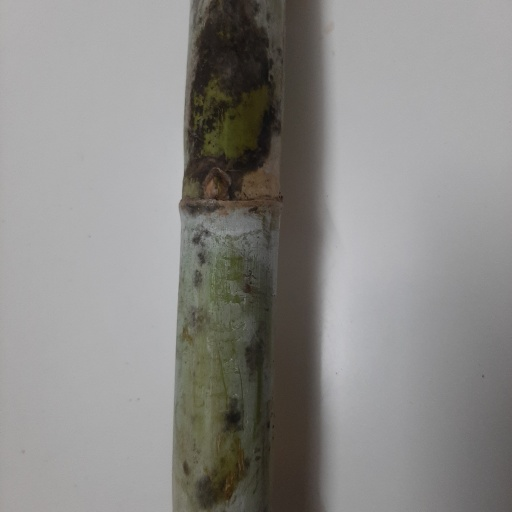Bud: (202, 169, 229, 201)
